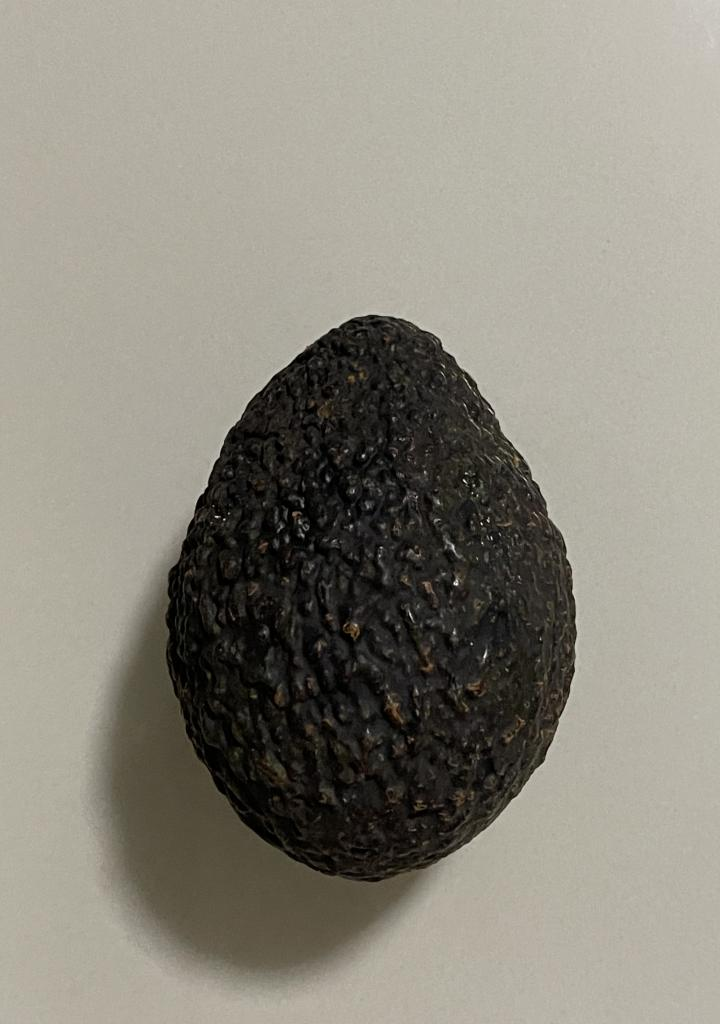Level1: (155, 292, 596, 893)
